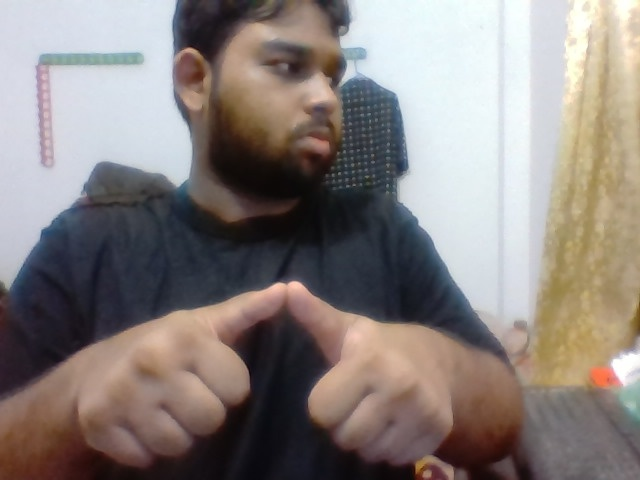A: (70, 248, 462, 480)
